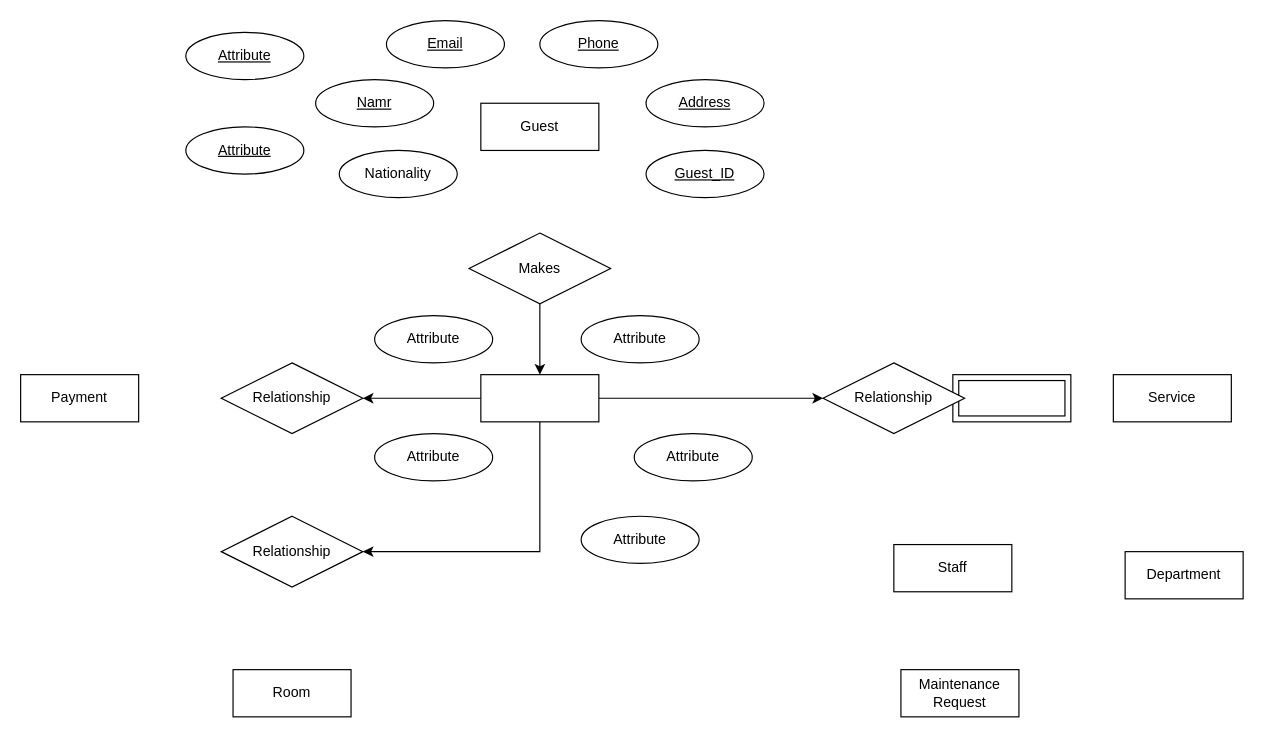
The diagram is 1264 pixels wide and 737 high, and some of its shapes have lost their labels. Here are the shapes that lost their labels. From the top down, the centre of each, then its label:
[539,397]: Booking
[1011,397]: Service Order
